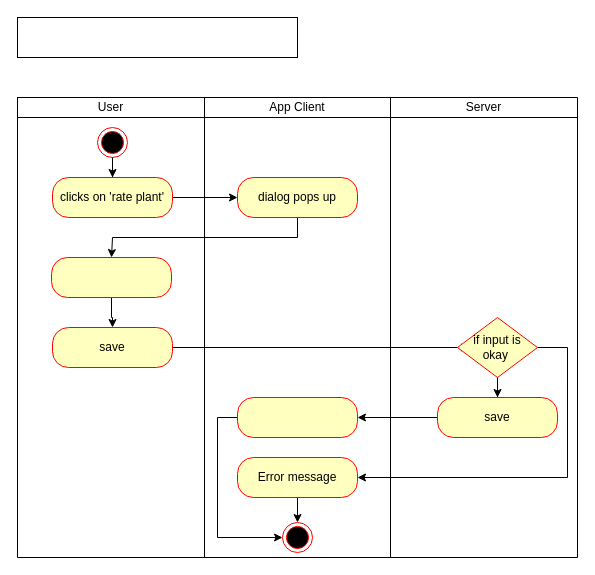
This 595x575 diagram has some shape labels left out. The centre of each missing label's shape, as x and y in pixels:
success message: the point at 297,417
user completes questions: the point at 111,277
User rates the ease of caring of a plant successfully: the point at 157,37
